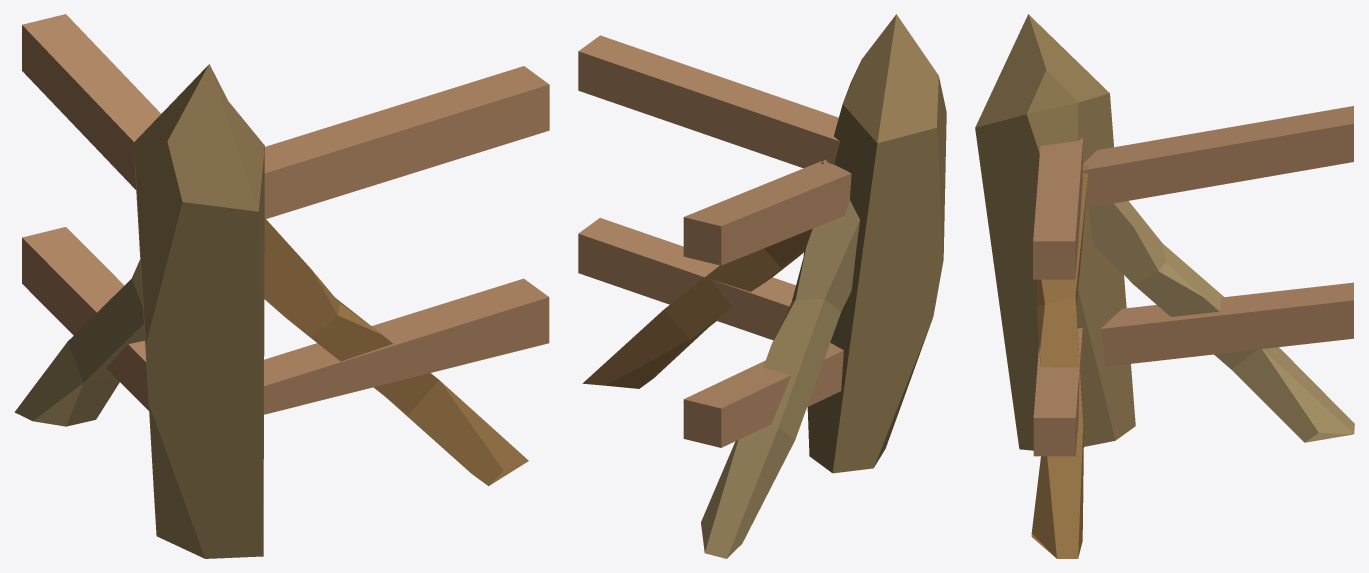
The model's file is fence_corner_1.glb.
The picture shows the model from 3 angles, left to right: view 1: azimuth 30°, elevation 25°; view 2: azimuth 150°, elevation 25°; view 3: azimuth 270°, elevation 25°; orthographic projection. The views are drawn at different scales.
Visible parts, largest first — view 1: fence_corner_1; view 2: fence_corner_1; view 3: fence_corner_1.
Part boxes in pixels (box(x1,y1,x2,y2)): fence_corner_1: box(14, 14, 549, 558); fence_corner_1: box(578, 14, 946, 558); fence_corner_1: box(975, 14, 1354, 558).
Size of the model in its own units: 2.58 by 3.07 by 2.54.
